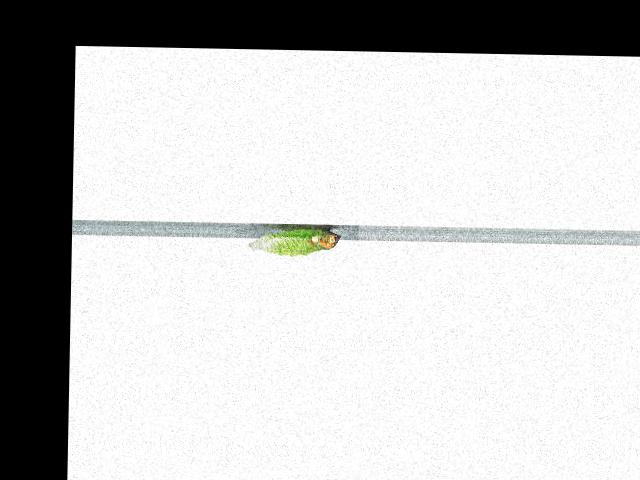lettuce: (247, 223, 344, 260)
